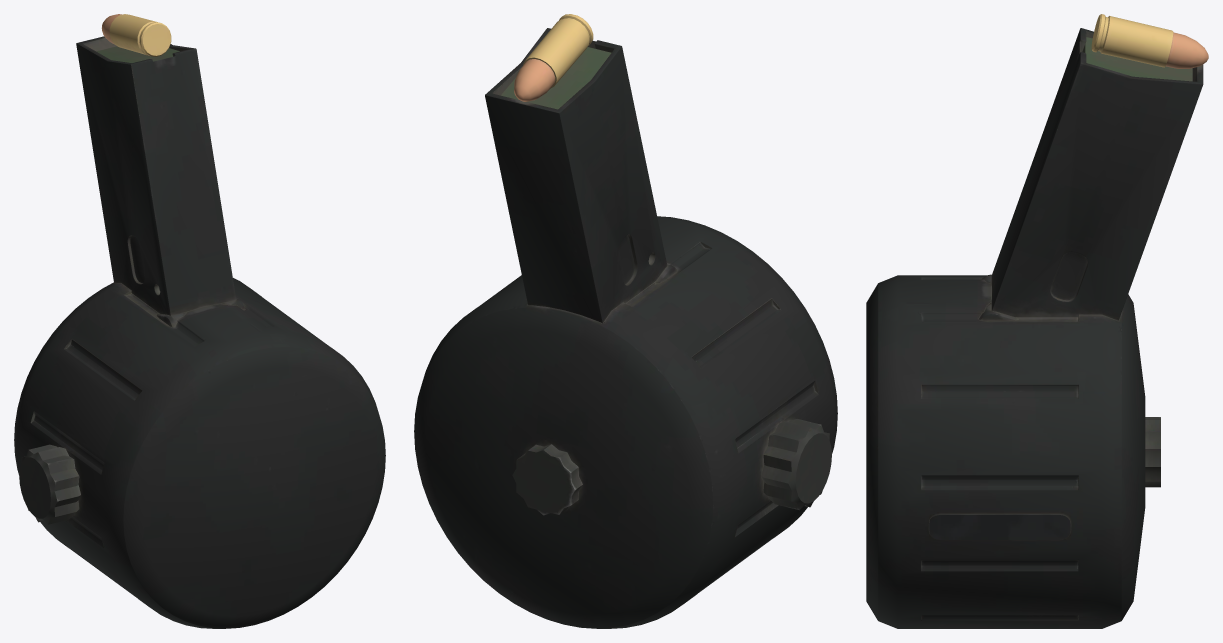
File: tambor_ciclone_50.glb
3 renders of one model, left to right at view 1: azimuth 30°, elevation 25°; view 2: azimuth 150°, elevation 25°; view 3: azimuth 270°, elevation 25°, orthographic. The views are drawn at different scales.
Visible parts, largest first — view 1: tambor_ciclone_50_carregador; view 2: tambor_ciclone_50_carregador; view 3: tambor_ciclone_50_carregador.
Part boxes in pixels (x1=…): tambor_ciclone_50_carregador: x1=14, y1=14, x2=385, y2=628; tambor_ciclone_50_carregador: x1=414, y1=14, x2=837, y2=628; tambor_ciclone_50_carregador: x1=866, y1=14, x2=1208, y2=628.
Bounding box in the file's own units: 0.0993 × 0.1675 × 0.0871.
Materials: 1 (1 with a texture image).
